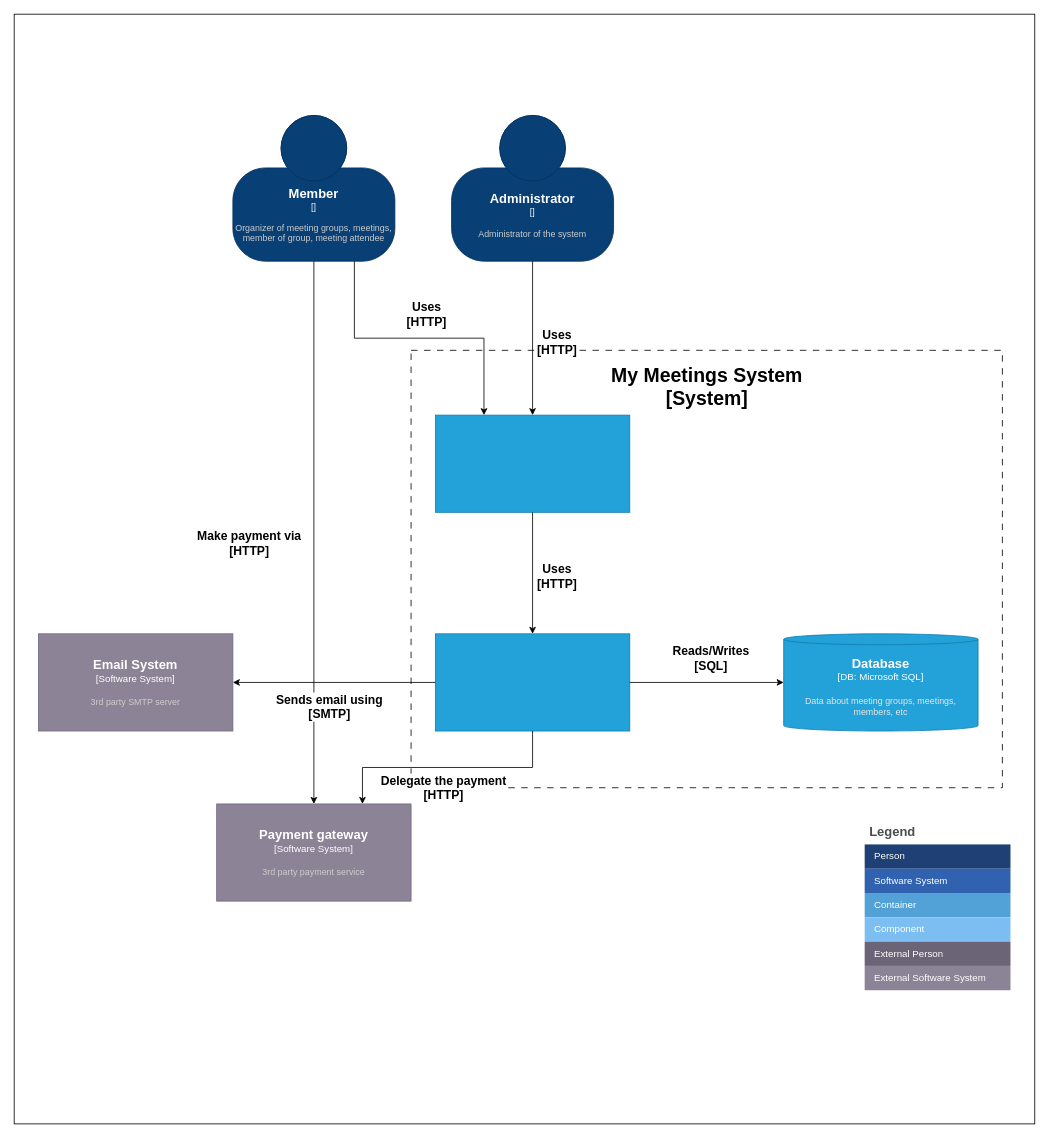
This 1049x1138 diagram has some shape labels left out. The shapes that lost their labels are listed below. From the top down, each one's box as (x1, y1, x2, y2) in pixels, then its label:
(435, 414, 630, 512): SPA [SPA: ReactJS] GUI for the application
(435, 633, 630, 731): My Meetings API [.NET core: .NET core] Backend
